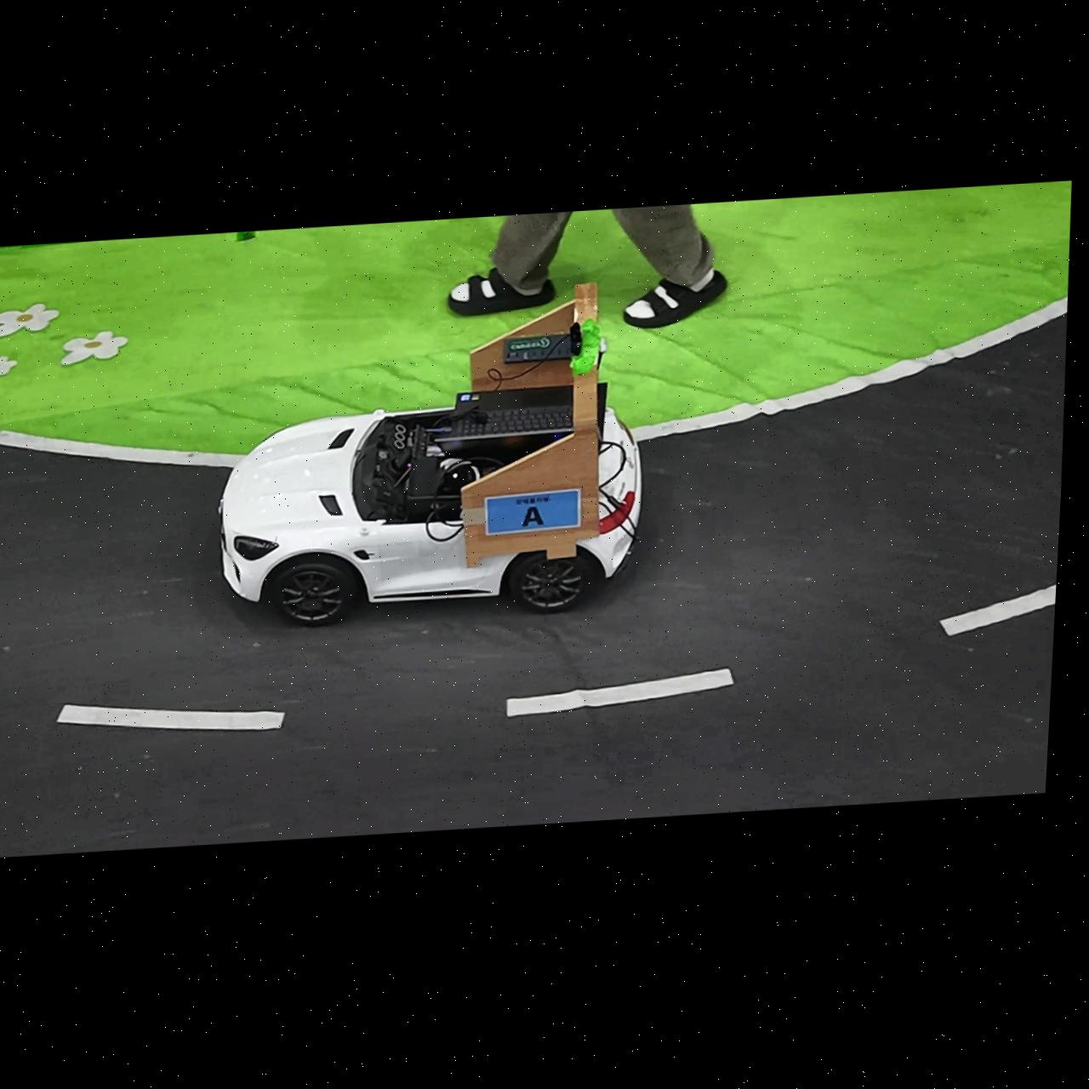broken_line: (507, 669, 734, 717), (939, 584, 1056, 636), (56, 705, 284, 730)
